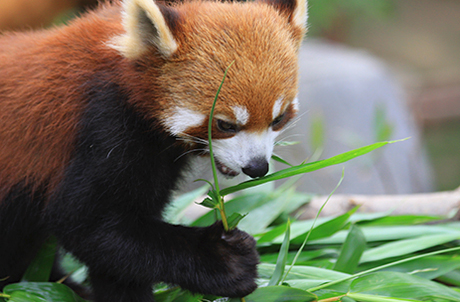red_panda: (1, 3, 311, 301)
